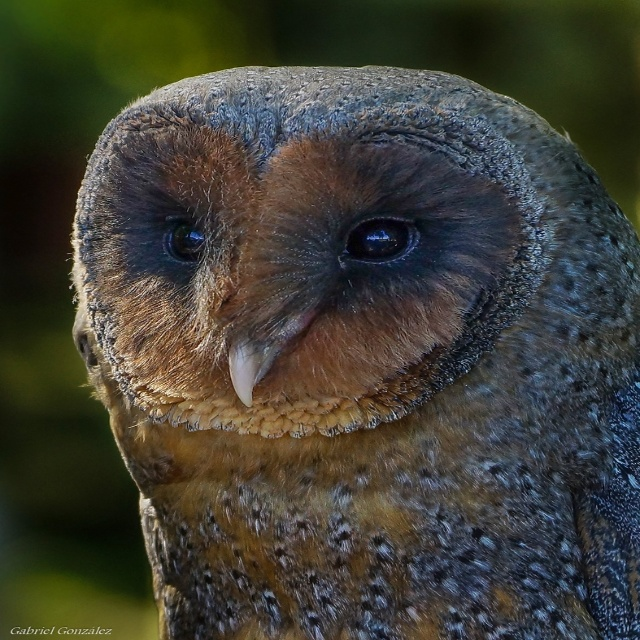Owl: (71, 64, 639, 640)
